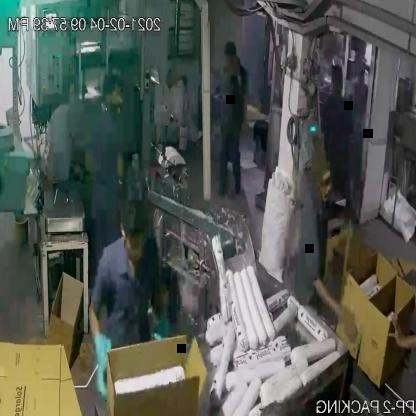glove: (88, 307, 118, 406)
no_glove: (306, 271, 352, 327), (380, 310, 416, 363), (400, 282, 416, 330)
